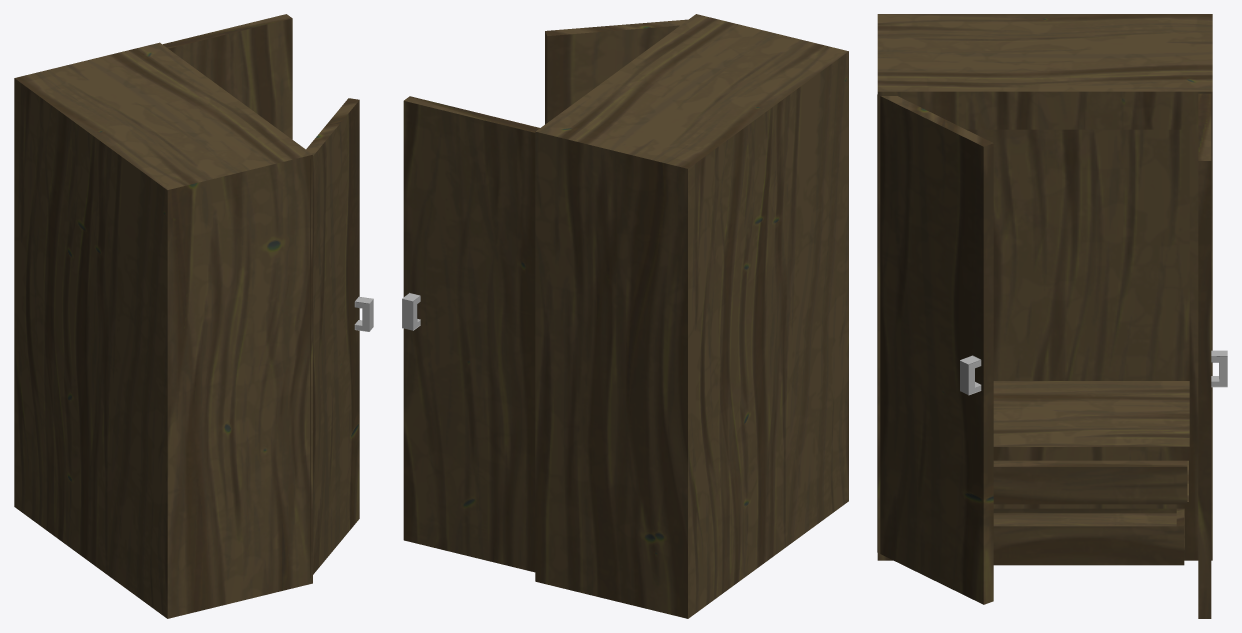
The model's file is closet.fbx.
3 renders of one model, left to right at view 1: azimuth 30°, elevation 25°; view 2: azimuth 150°, elevation 25°; view 3: azimuth 270°, elevation 25°, orthographic. The views are drawn at different scales.
Visible parts, largest first — view 1: closet, pCube7; view 2: closet, pasted__pCube7; view 3: closet, pCube7, pasted__pCube7.
Boxes of the visible parts, left/top/right/bottom form: closet: left=14, top=14, right=359, bottom=618; pCube7: left=354, top=296, right=373, bottom=331; closet: left=403, top=14, right=848, bottom=618; pasted__pCube7: left=402, top=293, right=420, bottom=330; closet: left=877, top=14, right=1212, bottom=618; pCube7: left=960, top=355, right=981, bottom=395; pasted__pCube7: left=1211, top=350, right=1227, bottom=387.
Size of the model in its own units: 10.53 by 15.88 by 10.76.
